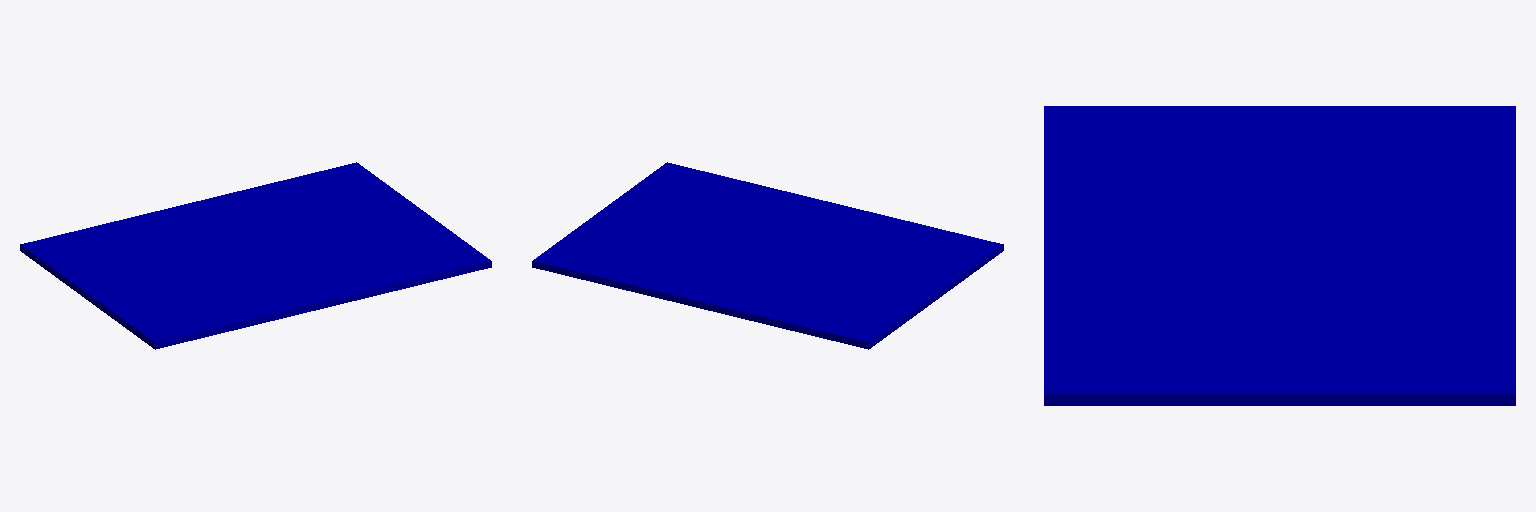
robot.urdf — tray:
<?xml version="1.0" ?>
<robot name="tray">
  <link name="tray-base">
    <visual>
      <origin rpy="0 0 0" xyz="0 0 0"/>
      <geometry>
        <box size="0.26 0.18 0.005"/>
      </geometry>
      <material name="test">
        <color rgba="0.0 0.0 0.7 1.0"/>
      </material>
    </visual>
    <collision>
      <origin rpy="0 0 0" xyz="0 0 0"/>
      <geometry>
        <box size="0.26 0.18 0.005"/>
      </geometry>
    </collision>
    <inertial>
      <origin rpy="0 0 0" xyz="0.000000 0.000000 0.000000"/>
      <mass value="0.0"/>
      <inertia ixx="1.0" ixy="0.01" ixz="0.01" iyy="1.0" iyz="0.01" izz="1.0"/>
    </inertial>
  </link>
</robot>

--- What the picture shows (computed from the rendered views, not written in the file) ---
The picture shows the robot from 3 angles, left to right: view 1: azimuth 30°, elevation 25°; view 2: azimuth 150°, elevation 25°; view 3: azimuth 270°, elevation 25°; orthographic projection.
Model tray with 1 links and 0 joints (none), rooted at tray-base, posed every joint at zero.
Visible links, largest first — view 1: tray-base; view 2: tray-base; view 3: tray-base.
Boxes of the visible links, bbox=[...] form: tray-base: bbox=[20, 162, 491, 349]; tray-base: bbox=[532, 162, 1003, 349]; tray-base: bbox=[1044, 106, 1515, 405].
Bounding box of the posed robot: 0.26 × 0.18 × 0.005 m (x, y, z).
Geometry: primitives only (box / cylinder / sphere), no mesh files.